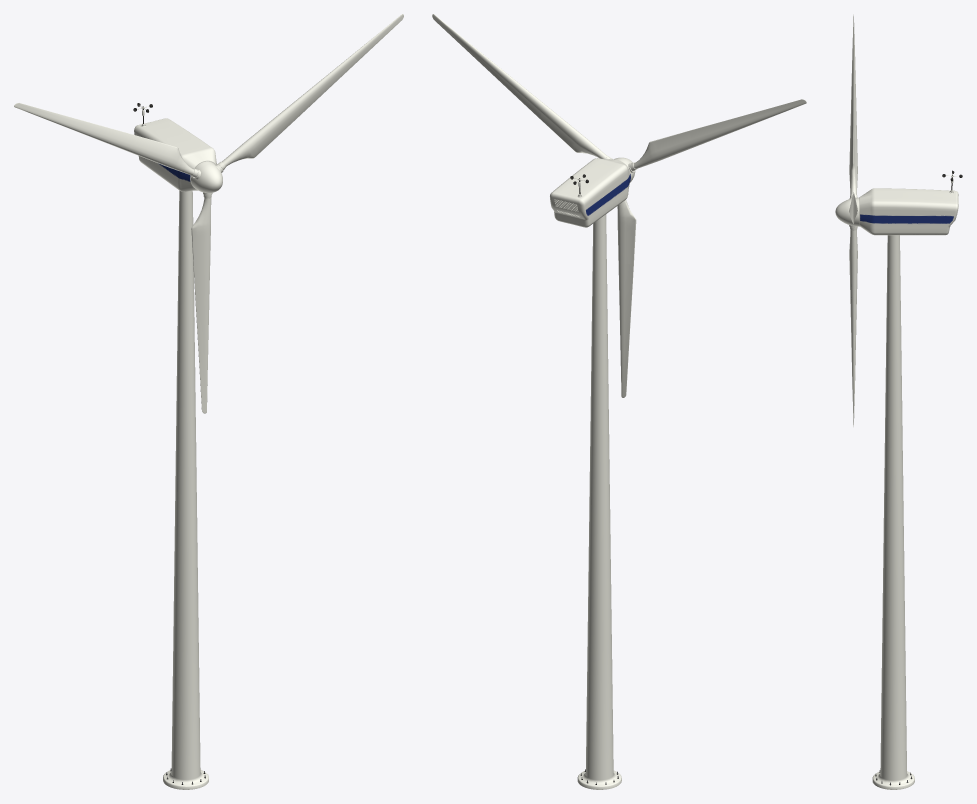
Rendered from turbine2.fbx.
The picture shows the model from 3 angles, left to right: view 1: azimuth 30°, elevation 25°; view 2: azimuth 150°, elevation 25°; view 3: azimuth 270°, elevation 25°; orthographic projection. The views are drawn at different scales.
Parts seen in each view (by area): view 1: tower.27, blades.33, Parent, rotor_hub_cap.34; view 2: tower.27, blades.33, Parent; view 3: tower.27, Parent, blades.33, rotor_hub_cap.34.
Part boxes in pixels (x1,y1,x2,y2): tower.27: (163, 190, 208, 789); blades.33: (14, 14, 403, 413); Parent: (134, 118, 216, 191); rotor_hub_cap.34: (191, 161, 223, 195); tower.27: (577, 214, 621, 789); blades.33: (432, 14, 806, 397); Parent: (550, 158, 630, 227); tower.27: (872, 235, 914, 789); Parent: (859, 188, 958, 235); blades.33: (849, 14, 857, 426); rotor_hub_cap.34: (835, 197, 859, 227).
Bounding box in the file's own units: 2372 × 4300 × 728.
5 materials, 5 textured.
